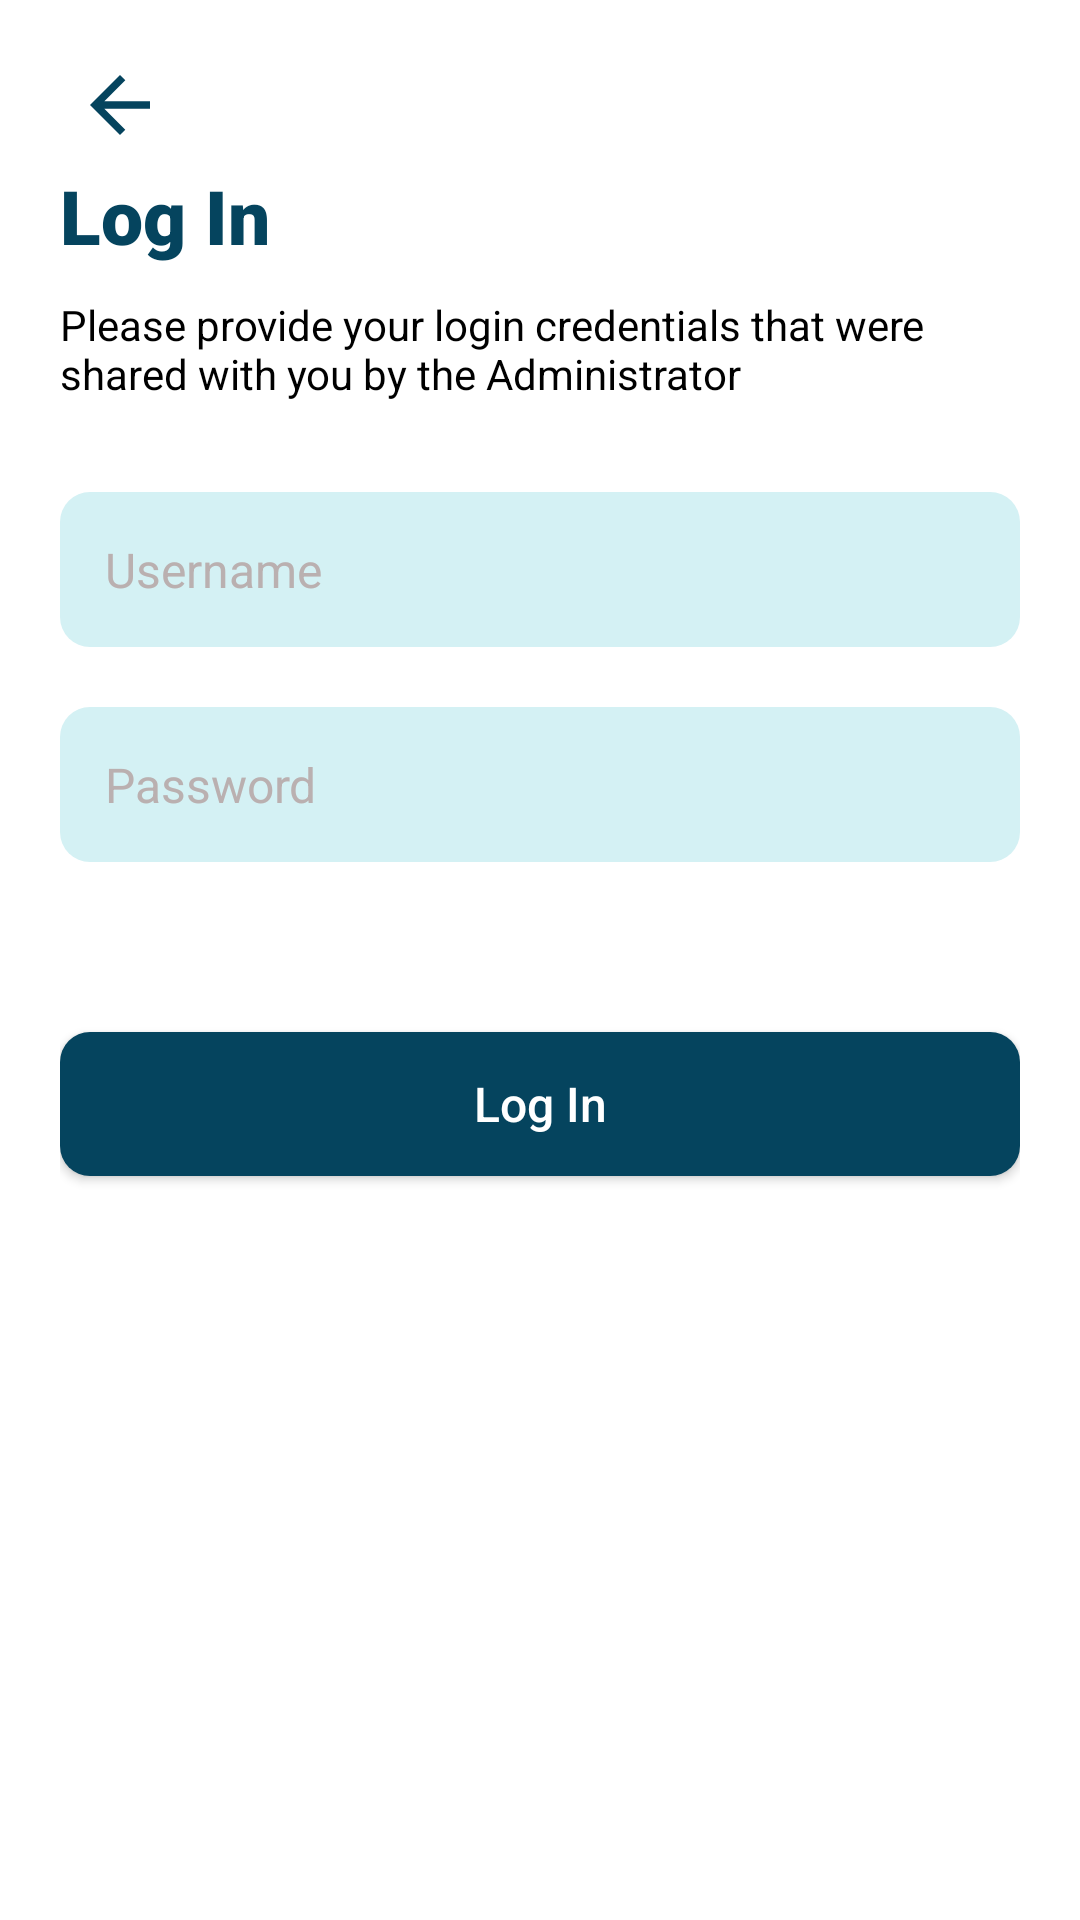

Where to tap for icons on this 1080px x 1920px app screen, as (x,y):
back: (120,105)
